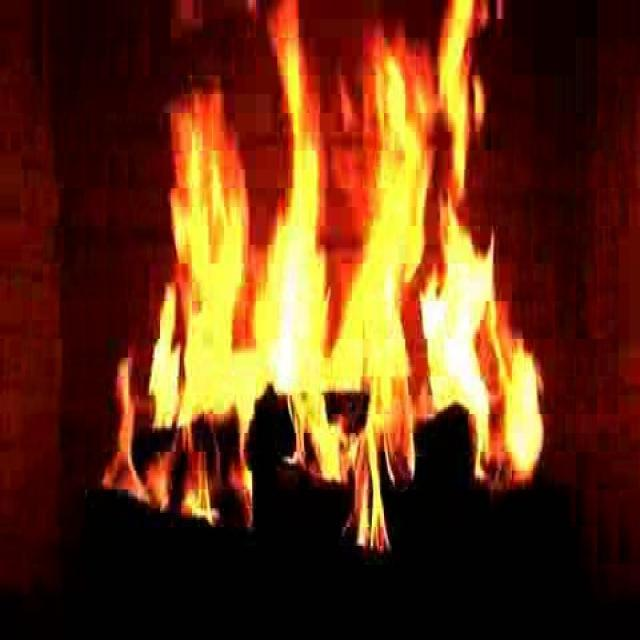Fire: (135, 27, 524, 492)
